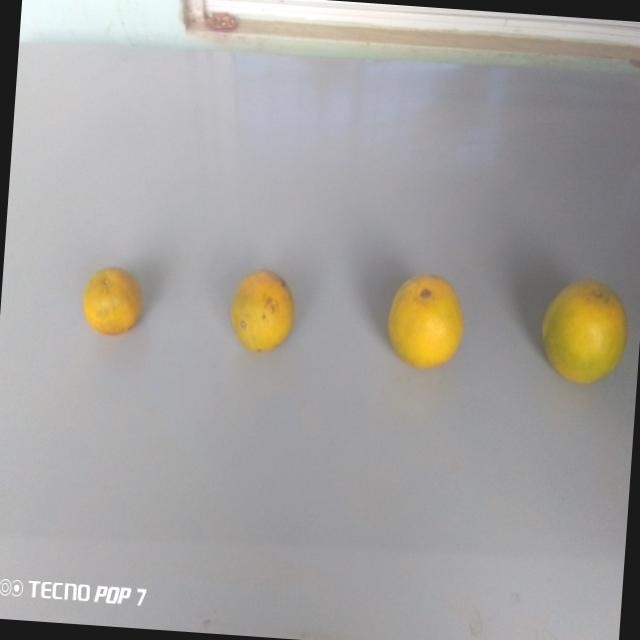agrume: (532, 270, 632, 395), (380, 255, 475, 377), (224, 262, 301, 361), (72, 261, 149, 343)
